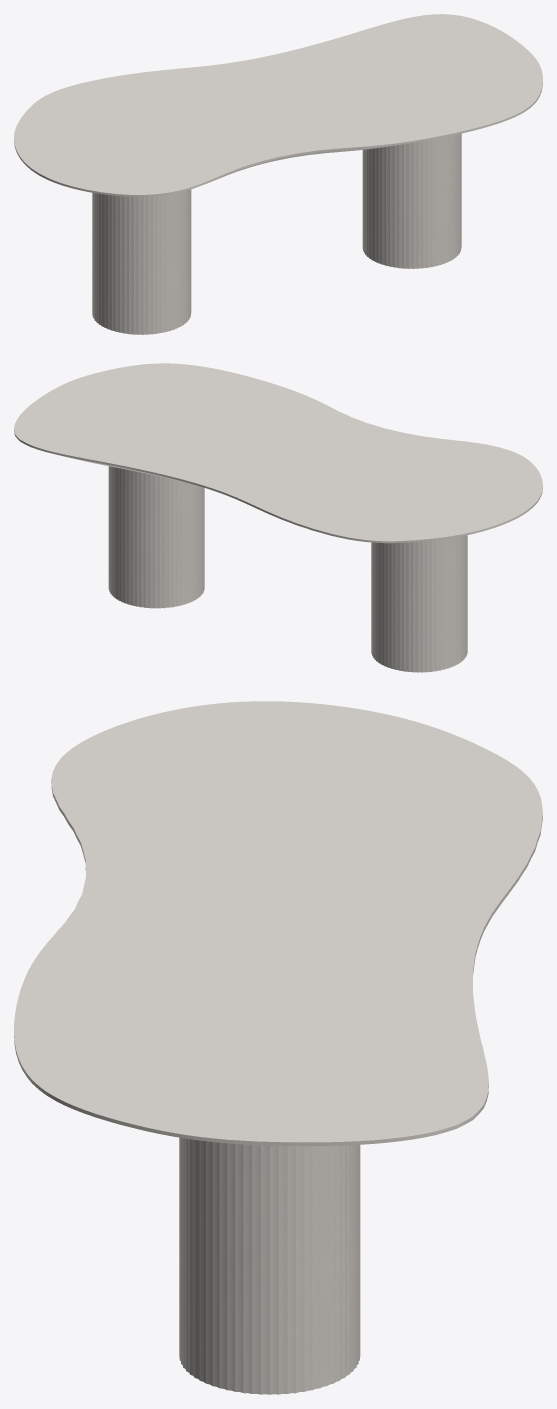
Rendered from pearlwhite_wave_facet_ripplesecond.glb.
3 renders of one model, top to bottom at view 1: azimuth 30°, elevation 25°; view 2: azimuth 150°, elevation 25°; view 3: azimuth 270°, elevation 25°, orthographic. The views are drawn at different scales.
Parts seen in each view (by area): view 1: facet_wave, ripplesecond; view 2: facet_wave, ripplesecond; view 3: facet_wave, ripplesecond.
Boxes of the visible parts, bbox=[...] form: facet_wave: bbox=[14, 14, 542, 196]; ripplesecond: bbox=[92, 133, 461, 334]; facet_wave: bbox=[14, 363, 542, 543]; ripplesecond: bbox=[108, 466, 467, 672]; facet_wave: bbox=[14, 701, 542, 1145]; ripplesecond: bbox=[179, 1137, 360, 1394].
Size of the model in its own units: 7.5 by 2.5 by 3.8.
Materials: 1 (1 with a texture image).
